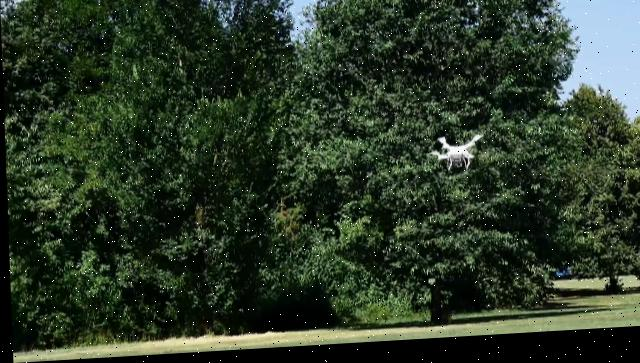drone: (428, 139, 482, 179)
